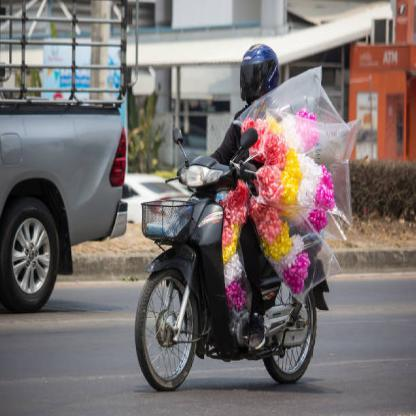Motorcycle: (129, 133, 339, 390)
